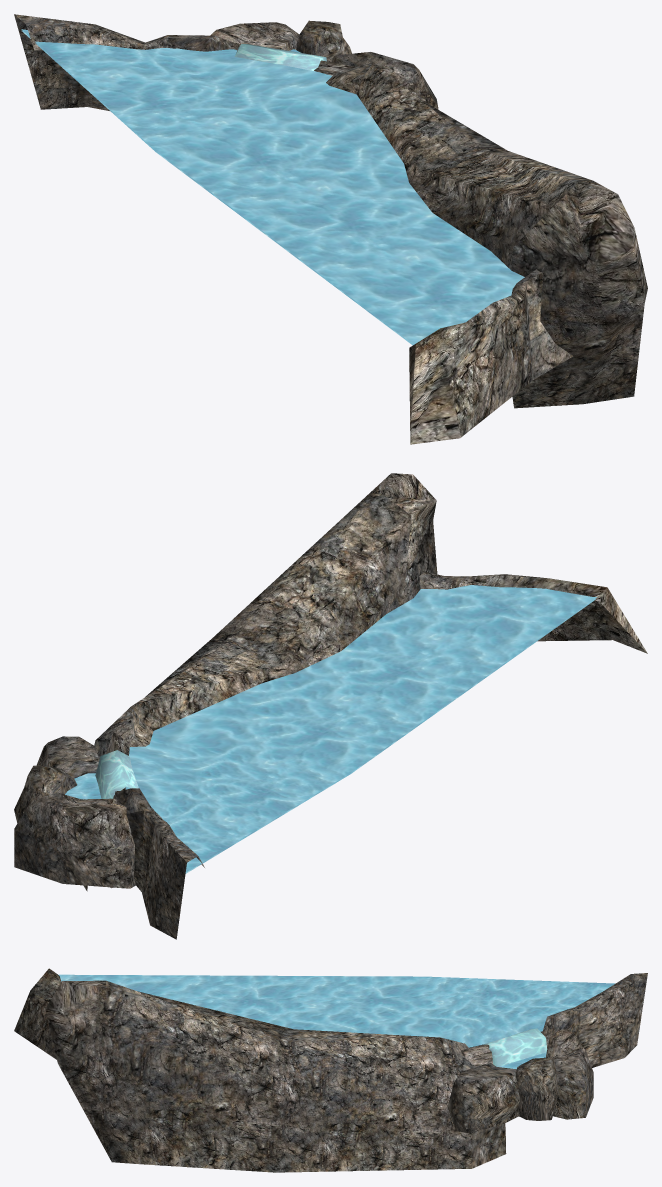
File: pir_m_prp_cav_pool_water_tall_large.fbx
3 views of the same model, one above another, from view 1: azimuth 30°, elevation 25°; view 2: azimuth 150°, elevation 25°; view 3: azimuth 270°, elevation 25° (orthographic). The views are drawn at different scales.
Parts seen in each view (by area): view 1: pool_water, rock_lip_1, rock_lip_2, rock_lip_0, rock_litter, rock_litter_5, waterfall, pool_water7; view 2: pool_water, rock_lip_1, rock_litter_5, rock_lip_0, rock_lip_2, rock_litter, waterfall, pool_water7; view 3: rock_lip_1, pool_water, rock_litter, rock_lip_0, rock_litter_5, rock_lip_2, waterfall.
Part boxes in pixels (left/top/right/bottom): pool_water: left=21, top=29, right=524, bottom=344; rock_lip_1: left=326, top=62, right=647, bottom=408; rock_lip_2: left=409, top=269, right=573, bottom=444; rock_lip_0: left=14, top=14, right=356, bottom=110; rock_litter: left=296, top=20, right=438, bottom=109; rock_litter_5: left=210, top=22, right=299, bottom=50; waterfall: left=234, top=44, right=326, bottom=70; pool_water7: left=21, top=30, right=413, bottom=345; pool_water: left=125, top=585, right=596, bottom=872; rock_lip_1: left=83, top=473, right=437, bottom=891; rock_litter_5: left=14, top=793, right=135, bottom=888; rock_lip_0: left=106, top=732, right=204, bottom=939; rock_lip_2: left=419, top=571, right=647, bottom=653; rock_litter: left=14, top=736, right=99, bottom=823; waterfall: left=95, top=750, right=138, bottom=798; pool_water7: left=185, top=599, right=595, bottom=873; rock_lip_1: left=45, top=980, right=506, bottom=1172; pool_water: left=58, top=974, right=615, bottom=1047; rock_litter: left=447, top=1057, right=558, bottom=1133; rock_lip_0: left=461, top=973, right=647, bottom=1067; rock_litter_5: left=546, top=1029, right=593, bottom=1119; rock_lip_2: left=14, top=968, right=61, bottom=1059; waterfall: left=483, top=1028, right=547, bottom=1066.
Bounding box in the file's own units: 4682 × 3008 × 10632.
Materials: 3 (3 with a texture image).
